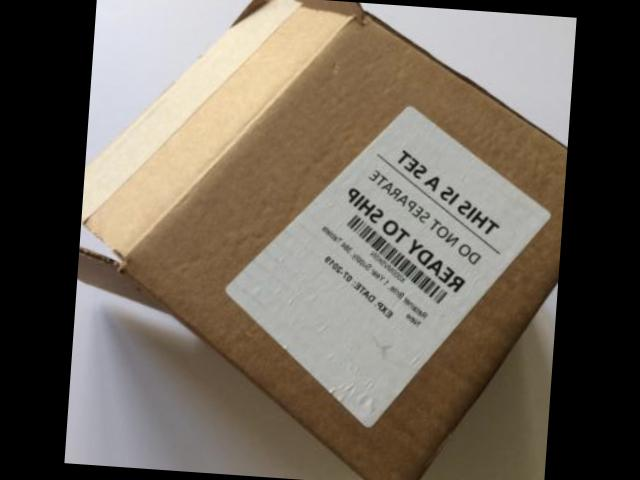cardboard paper: (81, 0, 564, 480)
